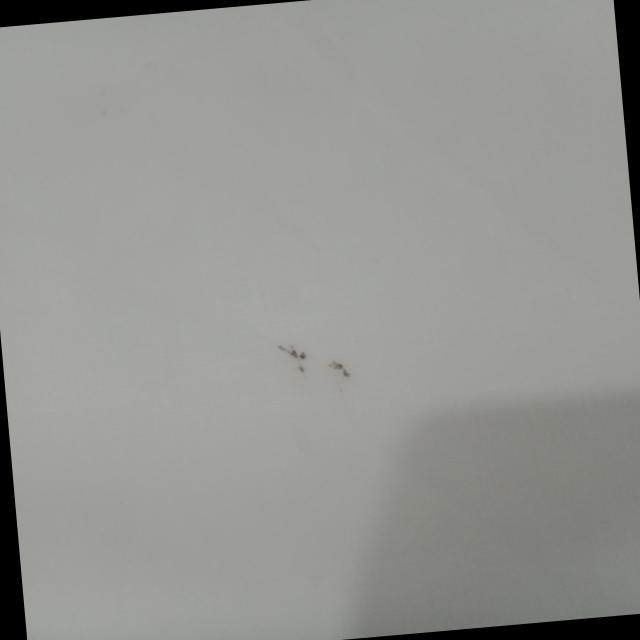stain: (268, 331, 368, 394)
